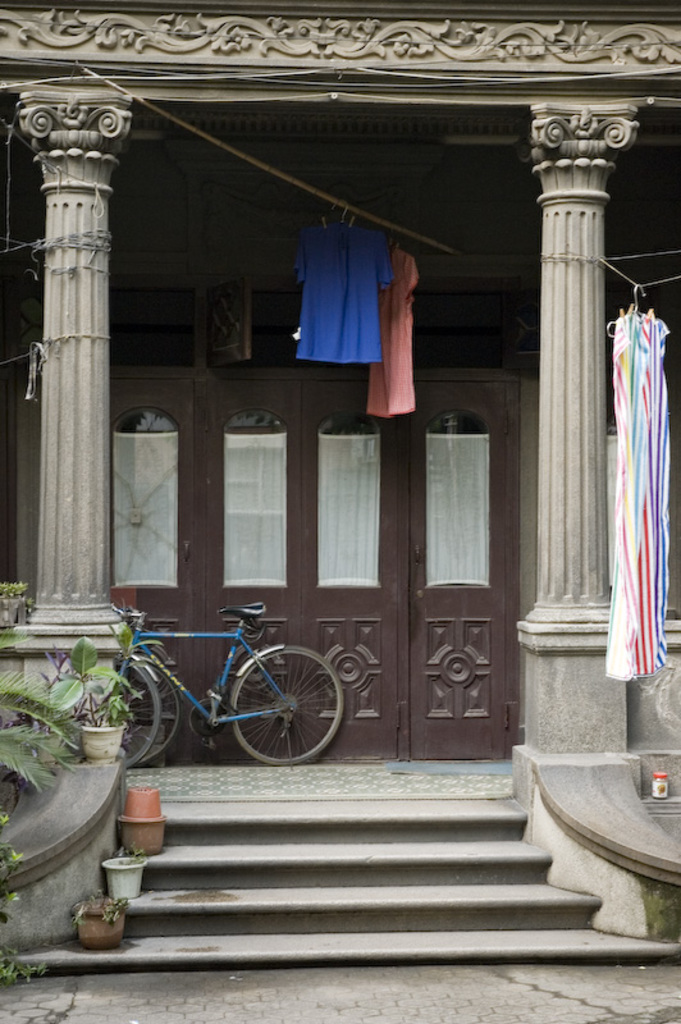door: (305, 391, 401, 764), (409, 397, 505, 752), (220, 408, 303, 771), (115, 402, 194, 762)
